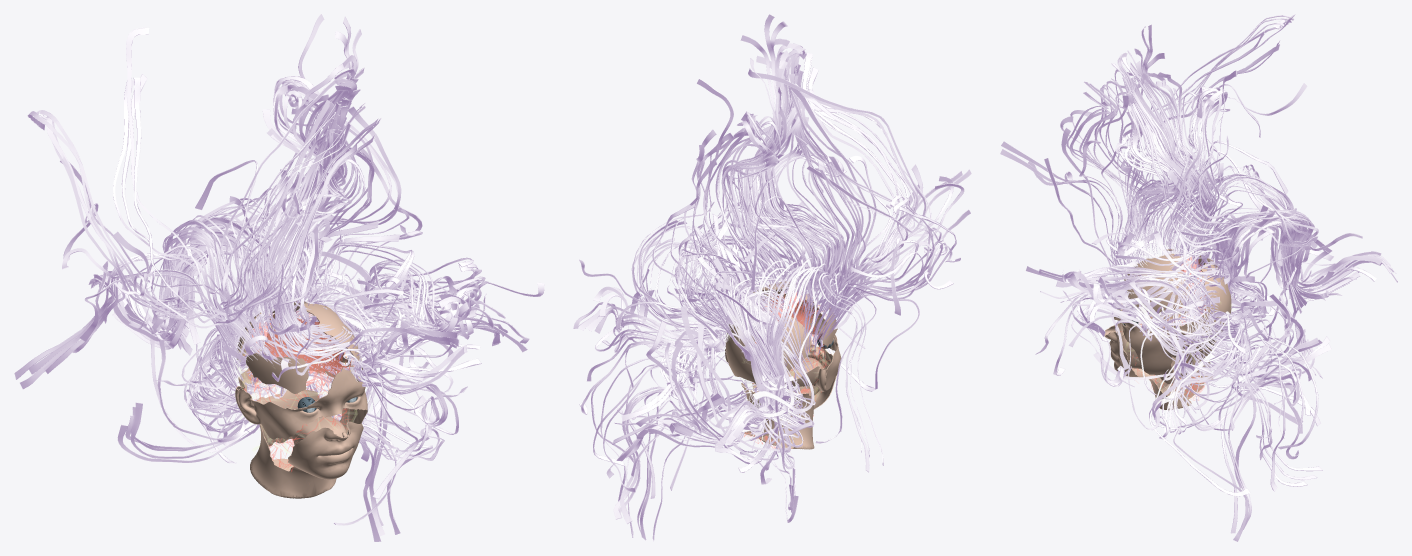
File: robot.glb
3 renders of one model, left to right at view 1: azimuth 30°, elevation 25°; view 2: azimuth 150°, elevation 25°; view 3: azimuth 270°, elevation 25°, orthographic. The views are drawn at different scales.
Visible parts, largest first — view 1: Object_4, Object_13, Object_16; view 2: Object_4, Object_13, Object_16; view 3: Object_4, Object_13.
Boxes of the visible parts, <box> form: Object_4: <box>14,14,544,541</box>; Object_13: <box>235,301,367,498</box>; Object_16: <box>243,311,354,471</box>; Object_4: <box>573,14,971,541</box>; Object_13: <box>725,281,841,449</box>; Object_16: <box>744,292,830,448</box>; Object_4: <box>1000,14,1397,541</box>; Object_13: <box>1104,249,1231,410</box>.
Bounding box in the file's own units: 7.06 × 8.65 × 6.55.
6 materials, 6 textured.
